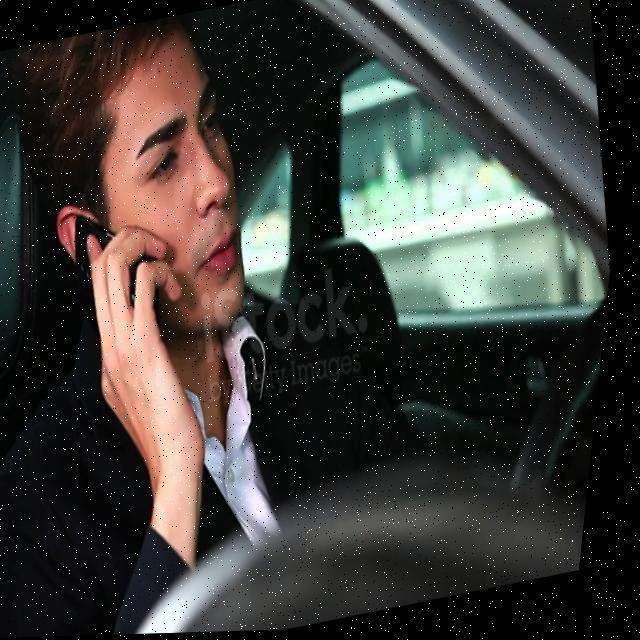PhoneCall: (65, 198, 182, 348)
